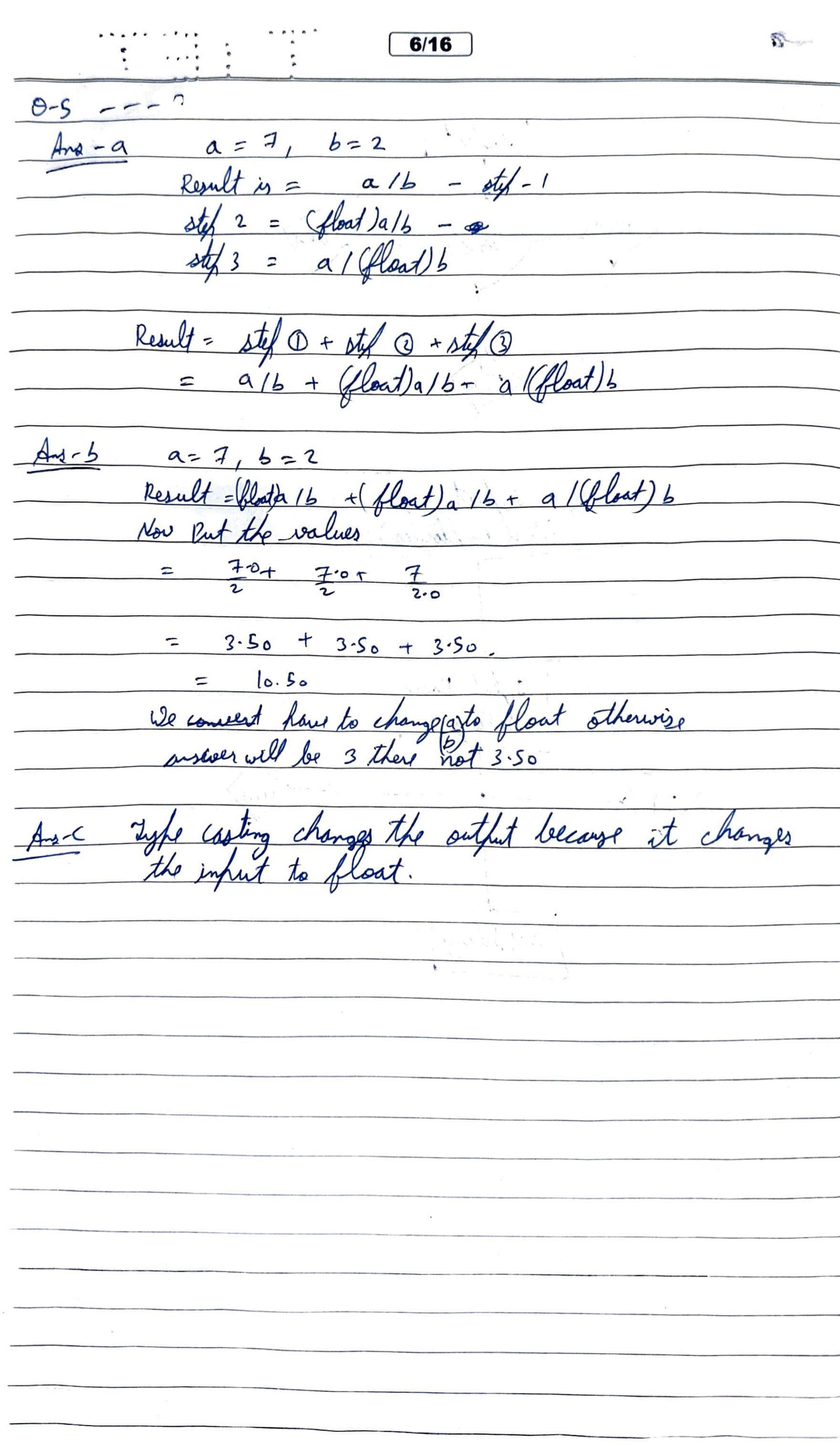cuttings: (184, 699, 267, 731), (462, 217, 493, 239)
